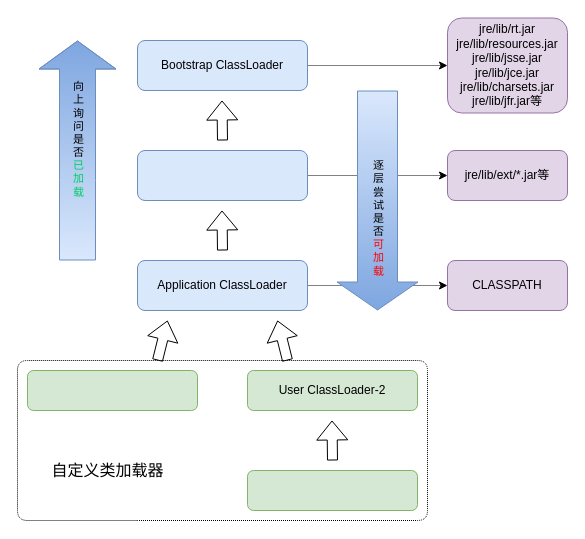
This 585x539 diagram has some shape labels left out. Each missing label, with the centre of its shape:
Platform ClassLoader ( Extension ClassLoader ): [222,175]
User ClassLoader-1: [112,390]
User ClassLoader-3: [332,490]
